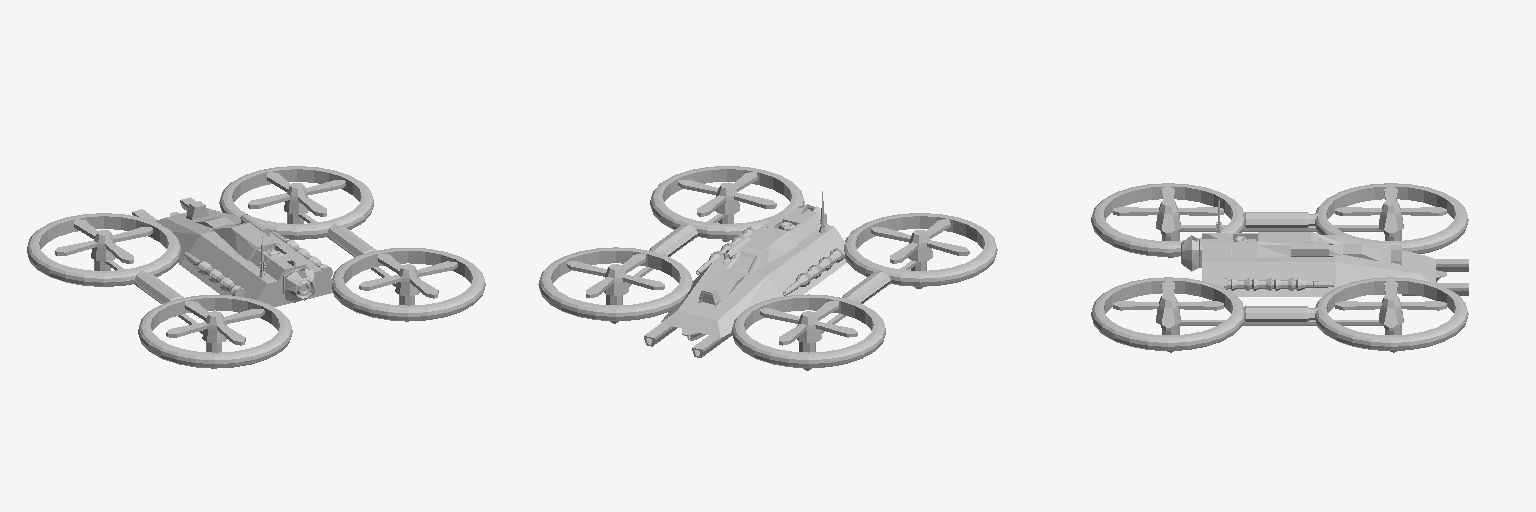
The model's file is mini.obj.
The picture shows the model from 3 angles: view 1: azimuth 30°, elevation 25°; view 2: azimuth 150°, elevation 25°; view 3: azimuth 270°, elevation 25°; orthographic projection.
Visible parts, largest first — view 1: Hull12_15, Torus03_5, Torus03_8, Torus03_6, Torus03_7, detail_propeller_2, detail_propeller_3, detail_propeller_1, detail_propeller_0, Cabin12_22, Hull19_24, Core02_25 (+3 smaller); view 2: Hull12_15, Torus03_6, Torus03_7, Torus03_5, Torus03_8, detail_propeller_2, detail_propeller_3, detail_propeller_1, detail_propeller_0, Cabin12_22, Hull19_24, Pylon01_37 (+2 smaller); view 3: Hull12_15, Torus03_8, Torus03_7, Torus03_5, Torus03_6, detail_propeller_0, detail_propeller_3, detail_propeller_1, detail_propeller_2, Cabin12_22, Hull19_24, Engine05_13 (+6 smaller).
Part boxes in pixels (x1,y1,x2,y2): Hull12_15: (155, 208, 333, 306); Torus03_5: (138, 295, 292, 368); Torus03_8: (332, 248, 485, 320); Torus03_6: (27, 213, 180, 286); Torus03_7: (219, 166, 373, 239); detail_propeller_2: (166, 300, 264, 345); detail_propeller_3: (359, 253, 457, 298); detail_propeller_1: (55, 219, 152, 263); detail_propeller_0: (248, 172, 345, 216); Cabin12_22: (212, 222, 280, 260); Hull19_24: (250, 244, 309, 286); Core02_25: (283, 269, 315, 302); Hull12_15: (661, 213, 846, 337); Torus03_6: (731, 294, 885, 367); Torus03_7: (538, 247, 692, 320); Torus03_5: (844, 213, 997, 286); Torus03_8: (650, 166, 804, 239); detail_propeller_2: (871, 219, 969, 263); detail_propeller_3: (678, 172, 776, 216); detail_propeller_1: (760, 300, 857, 345); detail_propeller_0: (567, 253, 664, 297); Cabin12_22: (724, 226, 797, 275); Hull19_24: (770, 207, 820, 243); Pylon01_37: (783, 248, 844, 295); Hull12_15: (1202, 235, 1435, 296); Torus03_8: (1091, 277, 1244, 350); Torus03_7: (1315, 277, 1468, 350); Torus03_5: (1091, 183, 1244, 256); Torus03_6: (1315, 183, 1468, 253); detail_propeller_0: (1335, 280, 1446, 330); detail_propeller_3: (1113, 280, 1223, 330); detail_propeller_1: (1335, 186, 1446, 236); detail_propeller_2: (1113, 186, 1223, 236); Cabin12_22: (1258, 232, 1342, 257); Hull19_24: (1202, 233, 1257, 256); Engine05_13: (1243, 306, 1317, 321).
Size of the model in its own units: 3.39 by 0.95 by 3.4.